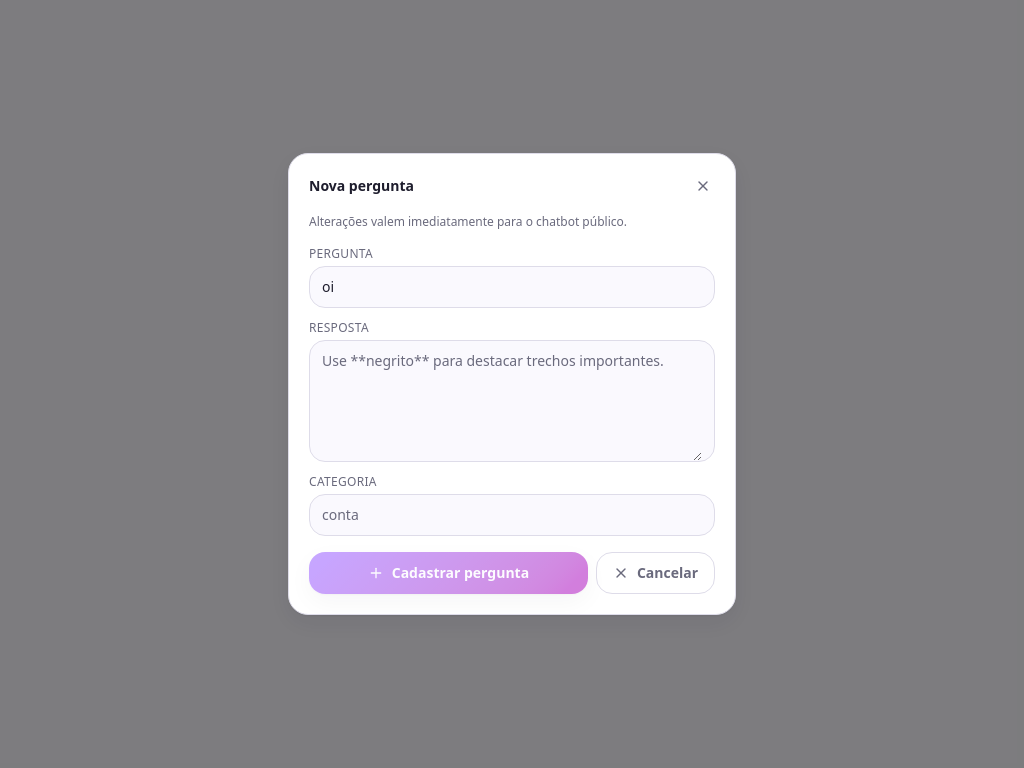
Test: FaqForm › shows a validation error below a field once it has been touched
This screenshot has width=1024, height=768.
Click the field with placeholder "Como faço para trocar um produto?". click: (512, 287)
box: [322,267,702,307]
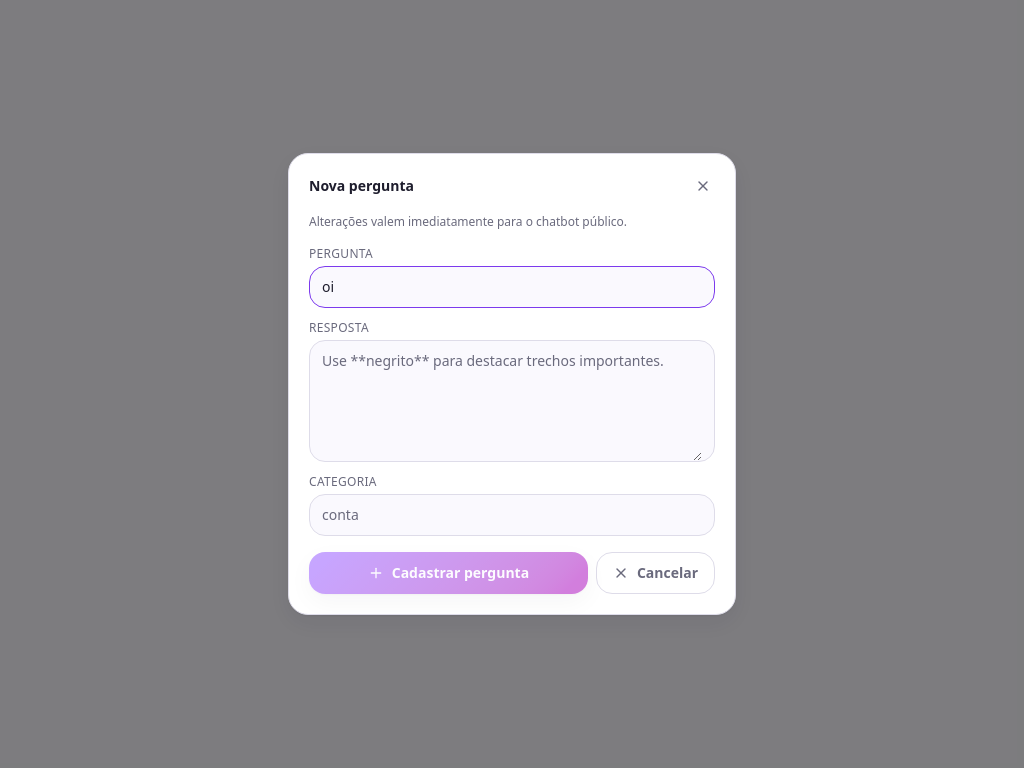
Press Tab
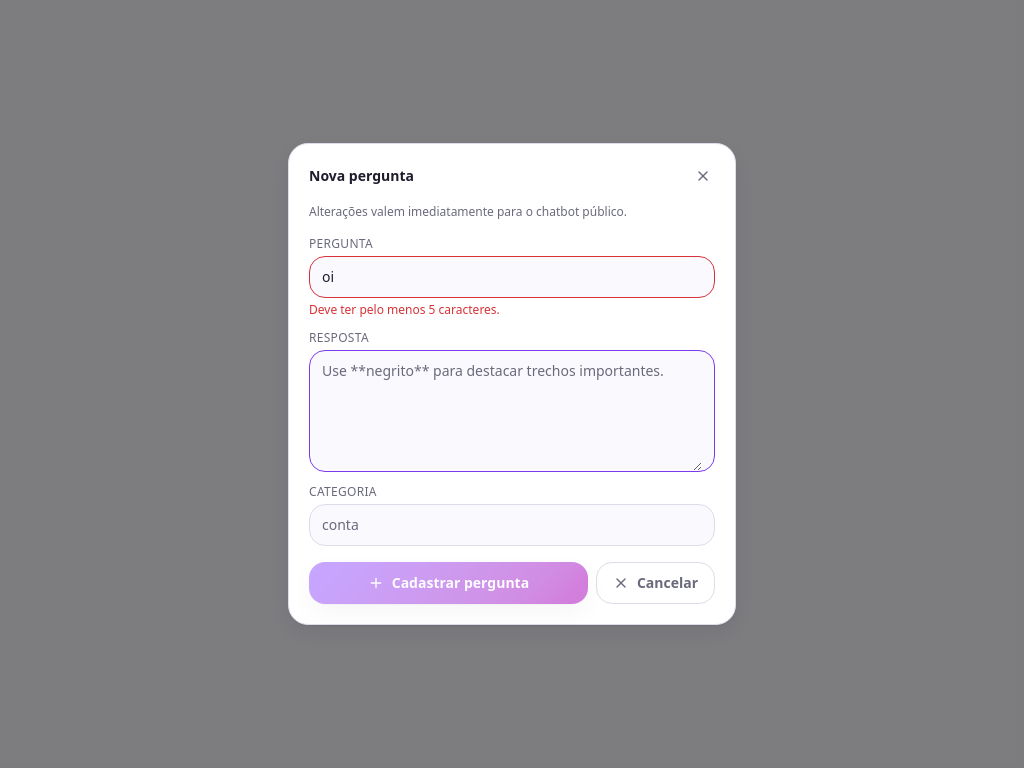
Expected: the text "Deve ter pelo menos 5 caracteres." is shown, [309,301,500,318]
